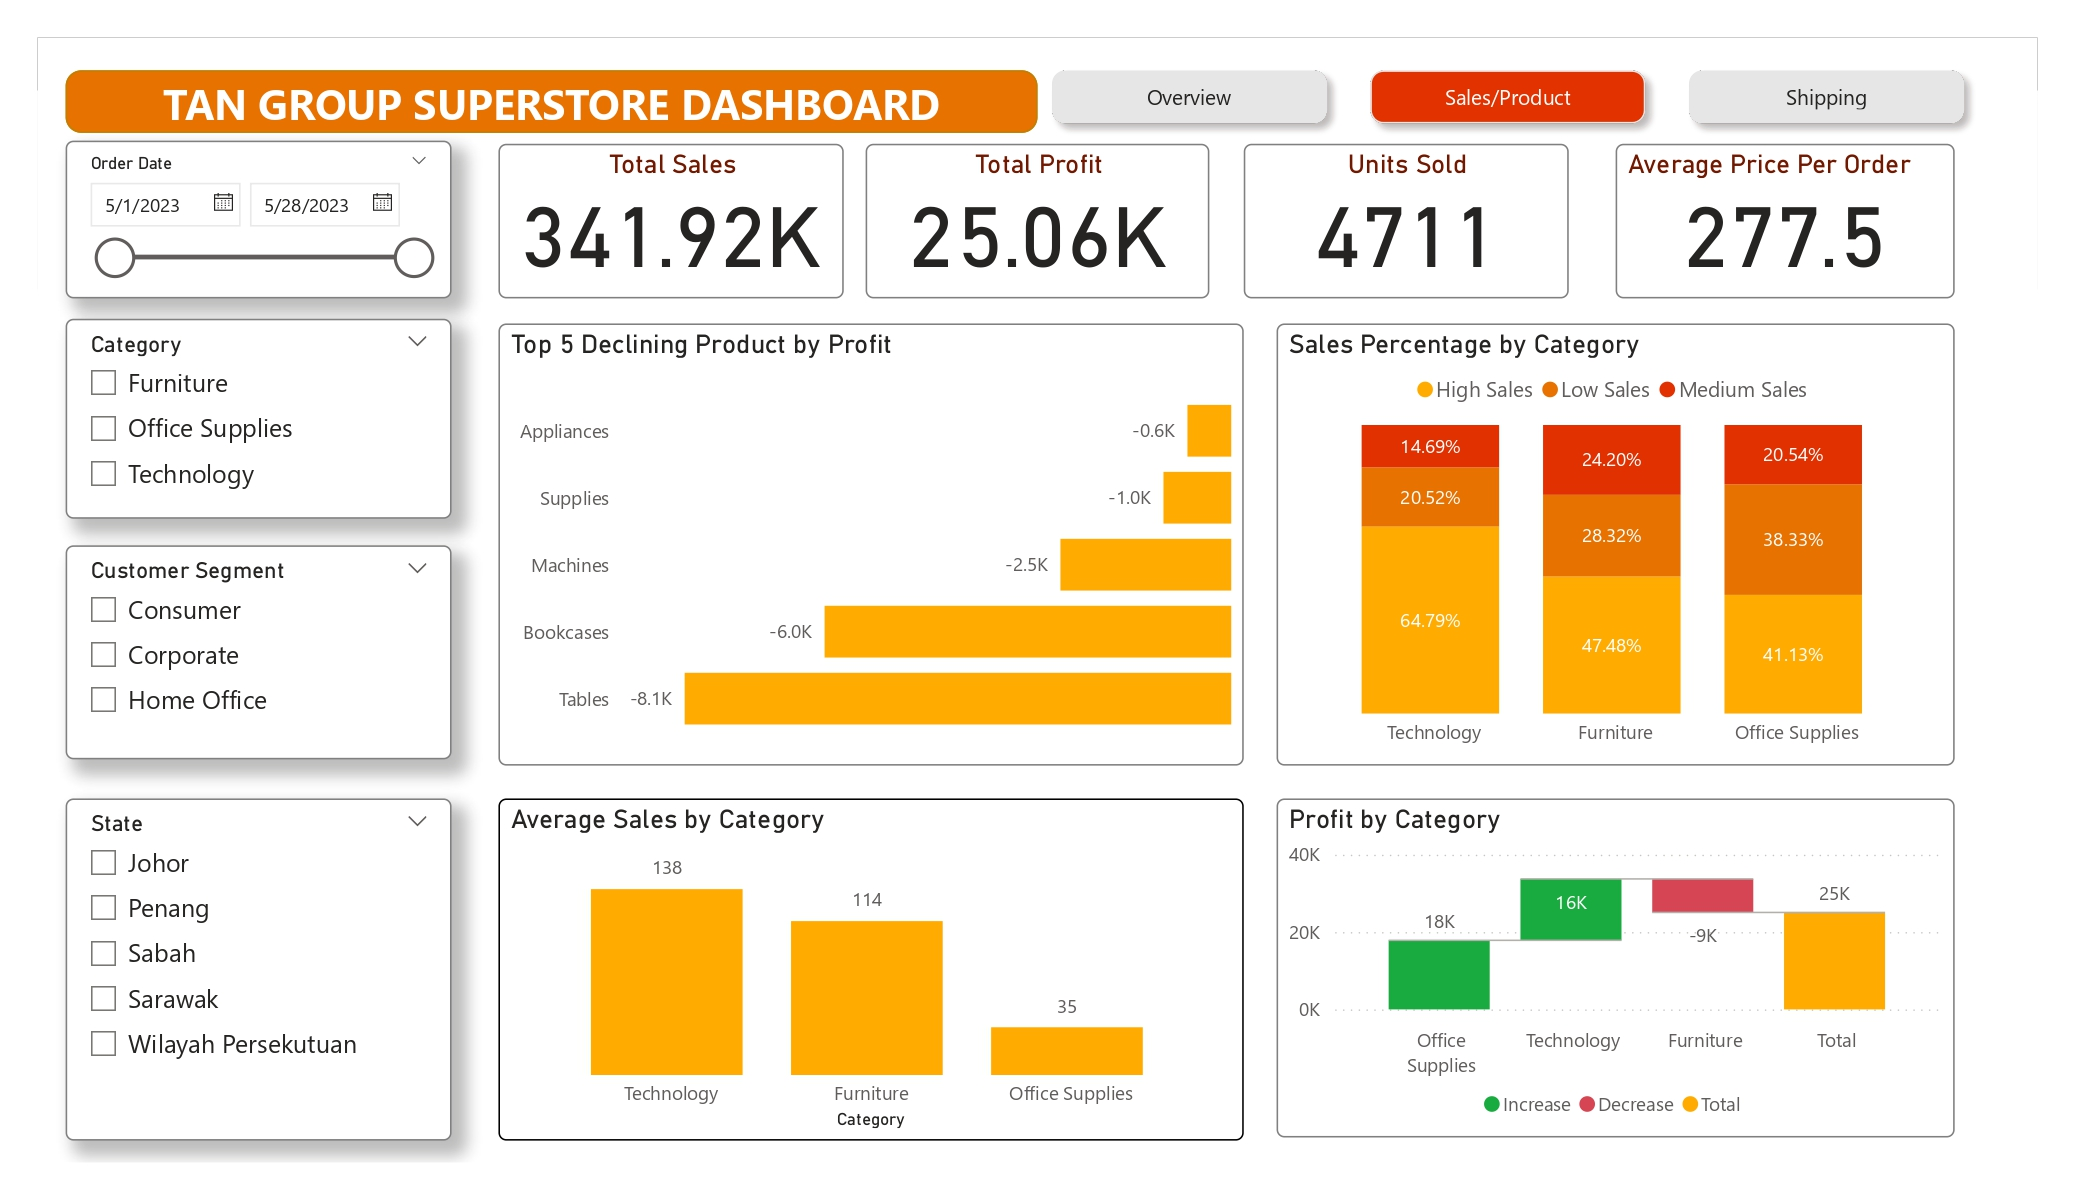

The dashboard page shown, as its layout file describes it:
{"tool":"powerbi","page":{"name":"Sales/Product","canvas":[1280,720],"ordinal":1},"visuals":[{"type":"barChart","title":"Top 5 Declining Product by Profit","fields":{"Category":["Orders.Product Name"],"Y":["Sum(Orders.Profit)"]},"box":[294.9,183.1,477,283.1],"z":0},{"type":"hundredPercentStackedColumnChart","title":"Sales Percentage by Category","fields":{"Category":["Product.Category"],"Y":["Sum(Orders.Sales)"],"Series":["Orders.Sales Category"]},"box":[792.9,183.1,433.8,282.7],"z":1000},{"type":"waterfallChart","title":"Profit by Category","fields":{"Category":["Product.Category"],"Y":["Sum(Orders.Profit)"]},"box":[792.9,487.1,433.8,216.9],"z":2000},{"type":"kpi","title":"Total Sales","fields":{"Indicator":["Orders.Total Sales"],"TrendLine":["Orders.Order Date.Variation.Date Hierarchy.Month"]},"box":[295.1,67.6,220.4,99.6],"z":3000},{"type":"kpi","title":"Total Profit","fields":{"Indicator":["Orders.Total Profit"],"TrendLine":["Orders.Order Date.Variation.Date Hierarchy.Month"]},"box":[529.8,67.6,220.4,99.6],"z":4000},{"type":"kpi","title":"Units Sold","fields":{"Indicator":["Orders.Units Sold"],"TrendLine":["Orders.Order Date.Variation.Date Hierarchy.Month"]},"box":[771.6,67.6,208,99.6],"z":5000},{"type":"kpi","title":"Average Price Per Order","fields":{"Indicator":["Orders.Average Price"],"TrendLine":["Orders.Order Date.Variation.Date Hierarchy.Month"]},"box":[1009.8,67.6,216.9,99.6],"z":6000},{"type":"pageNavigator","box":[640,12.4,604.4,51.6],"z":7000},{"type":"slicer","fields":{"Values":["Shipping.Order Date"]},"box":[17.8,65.8,247.1,101.3],"z":8000},{"type":"slicer","fields":{"Values":["Product.Category"]},"box":[17.8,179.6,247.1,128],"z":9000},{"type":"slicer","fields":{"Values":["Orders.Customer Segment"]},"box":[17.8,325.3,247.1,136.9],"z":10000},{"type":"slicer","fields":{"Values":["Shipping.State"]},"box":[17.8,487.1,247.1,218.7],"z":11000},{"type":"shape","box":[17.7,20.7,621.8,39.9],"z":12000},{"type":"columnChart","title":"Average Sales by Category","fields":{"Category":["Product.Category"],"Y":["Orders.Average Sales Price"]},"box":[295,487,477,219],"z":13000}]}

Visuals, with their boxes in screenshot pixels (x1, y1, x2, y2):
"Top 5 Declining Product by Profit" barChart: Rect(498, 324, 1244, 766)
"Sales Percentage by Category" hundredPercentStackedColumnChart: Rect(1276, 324, 1954, 765)
"Profit by Category" waterfallChart: Rect(1276, 799, 1954, 1138)
"Total Sales" kpi: Rect(499, 143, 843, 299)
"Total Profit" kpi: Rect(865, 143, 1210, 299)
"Units Sold" kpi: Rect(1243, 143, 1568, 299)
"Average Price Per Order" kpi: Rect(1615, 143, 1954, 299)
pageNavigator: Rect(1038, 57, 1982, 138)
slicer - Shipping.Order Date: Rect(65, 140, 451, 299)
slicer - Product.Category: Rect(65, 318, 451, 518)
slicer - Orders.Customer Segment: Rect(65, 546, 451, 760)
slicer - Shipping.State: Rect(65, 799, 451, 1140)
shape: Rect(65, 70, 1037, 132)
"Average Sales by Category" columnChart: Rect(498, 798, 1244, 1141)
